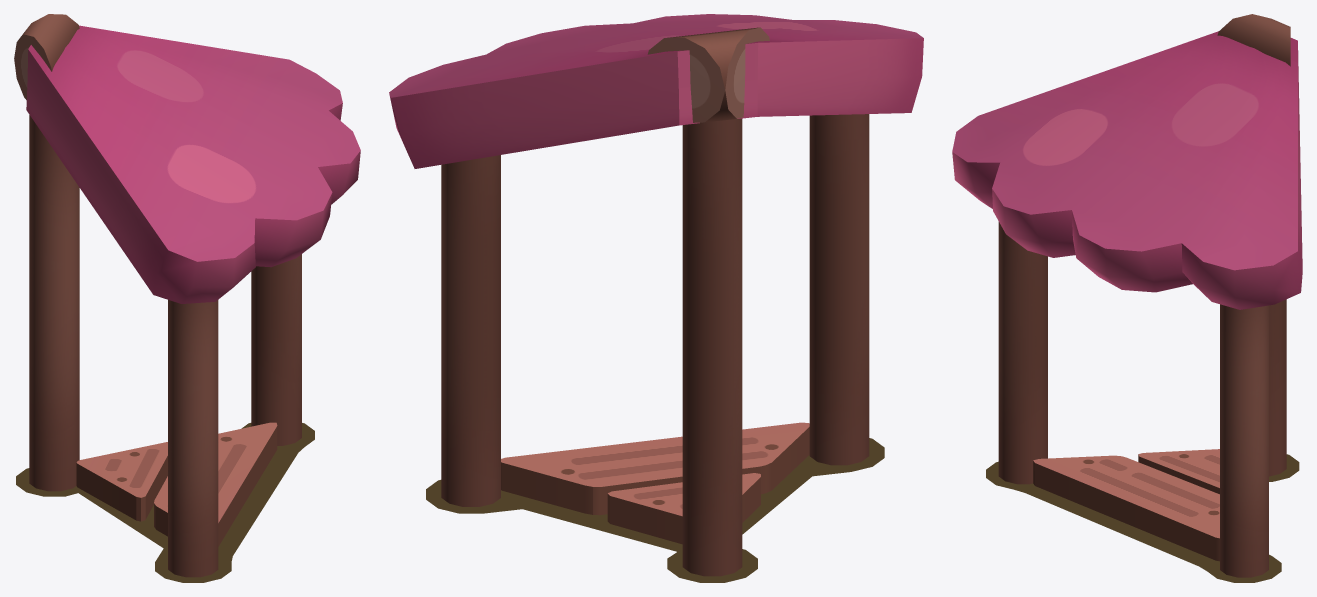
The model's file is Mu_TriBalcony.fbx.
The picture shows the model from 3 angles, left to right: view 1: azimuth 30°, elevation 25°; view 2: azimuth 150°, elevation 25°; view 3: azimuth 270°, elevation 25°; orthographic projection. The views are drawn at different scales.
Parts seen in each view (by area): view 1: Mu_TriBalcony_a, Mu_TriBalcony_b, Mu_TriBalcony_shadow; view 2: Mu_TriBalcony_a, Mu_TriBalcony_b, Mu_TriBalcony_shadow; view 3: Mu_TriBalcony_a, Mu_TriBalcony_b, Mu_TriBalcony_shadow.
Boxes of the visible parts, <box> form: Mu_TriBalcony_a: <box>14,14,360,577</box>; Mu_TriBalcony_b: <box>76,422,277,546</box>; Mu_TriBalcony_shadow: <box>16,423,314,582</box>; Mu_TriBalcony_a: <box>389,14,923,576</box>; Mu_TriBalcony_b: <box>501,422,809,544</box>; Mu_TriBalcony_shadow: <box>426,438,884,582</box>; Mu_TriBalcony_a: <box>952,14,1302,577</box>; Mu_TriBalcony_b: <box>1033,449,1219,561</box>; Mu_TriBalcony_shadow: <box>986,454,1299,582</box>.
Bounding box in the file's own units: 169 × 238 × 171.
Materials: 2 (1 with a texture image).
